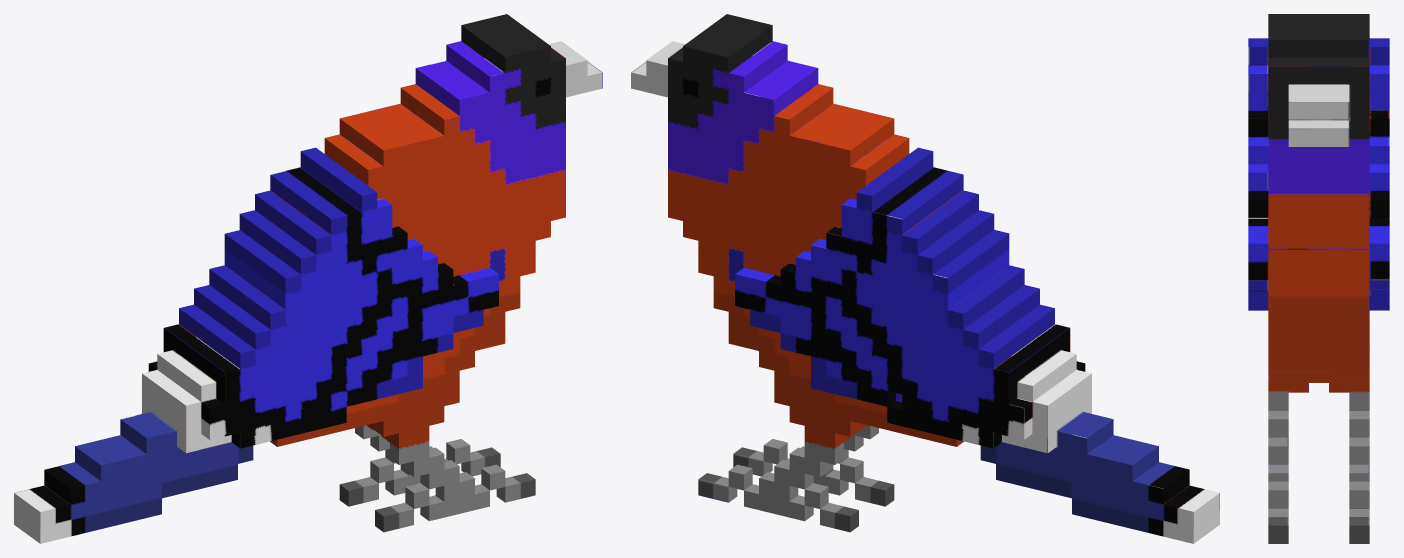
File: rurikakesu.glb
3 renders of one model, left to right at view 1: azimuth 30°, elevation 25°; view 2: azimuth 150°, elevation 25°; view 3: azimuth 270°, elevation 25°, orthographic. The views are drawn at different scales.
Parts seen in each view (by area): view 1: rurikakesu; view 2: rurikakesu; view 3: rurikakesu.
Boxes of the visible parts, x1=… form: rurikakesu: x1=14, y1=14, x2=602, y2=543; rurikakesu: x1=631, y1=14, x2=1219, y2=543; rurikakesu: x1=1248, y1=14, x2=1389, y2=543.
Size of the model in its own units: 0.74 by 0.56 by 0.14.
Materials: 1 (1 with a texture image).
